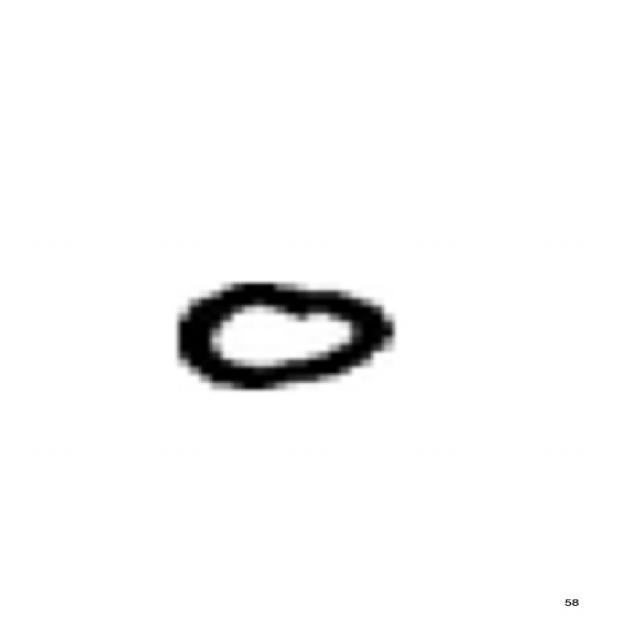5 -five-: (158, 272, 408, 401)
